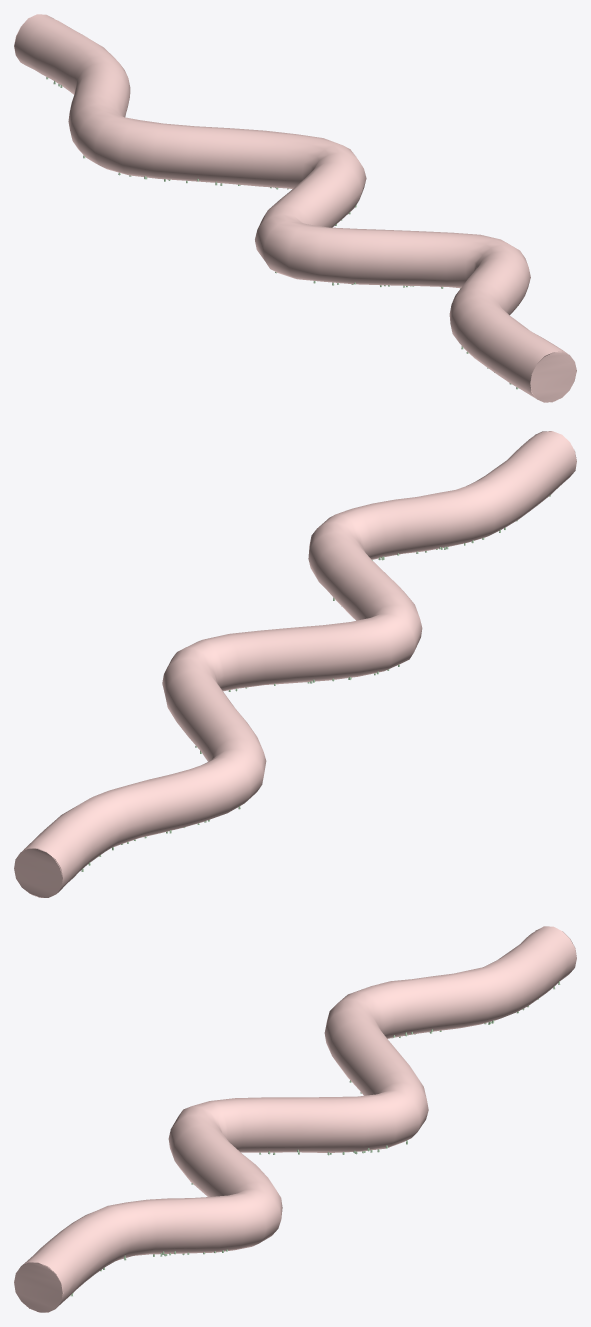
The model's file is stage_intestine.glb.
The picture shows the model from 3 angles, top to bottom: view 1: azimuth 30°, elevation 25°; view 2: azimuth 150°, elevation 25°; view 3: azimuth 330°, elevation 25°; orthographic projection.
Parts seen in each view (by area): view 1: Intestine; view 2: Intestine; view 3: Intestine.
Part boxes in pixels (<box>): Intestine: <box>14,14,576,402</box>; Intestine: <box>14,431,576,897</box>; Intestine: <box>14,926,576,1312</box>.
Bounding box in the file's own units: 43.22 × 20.31 × 206.
